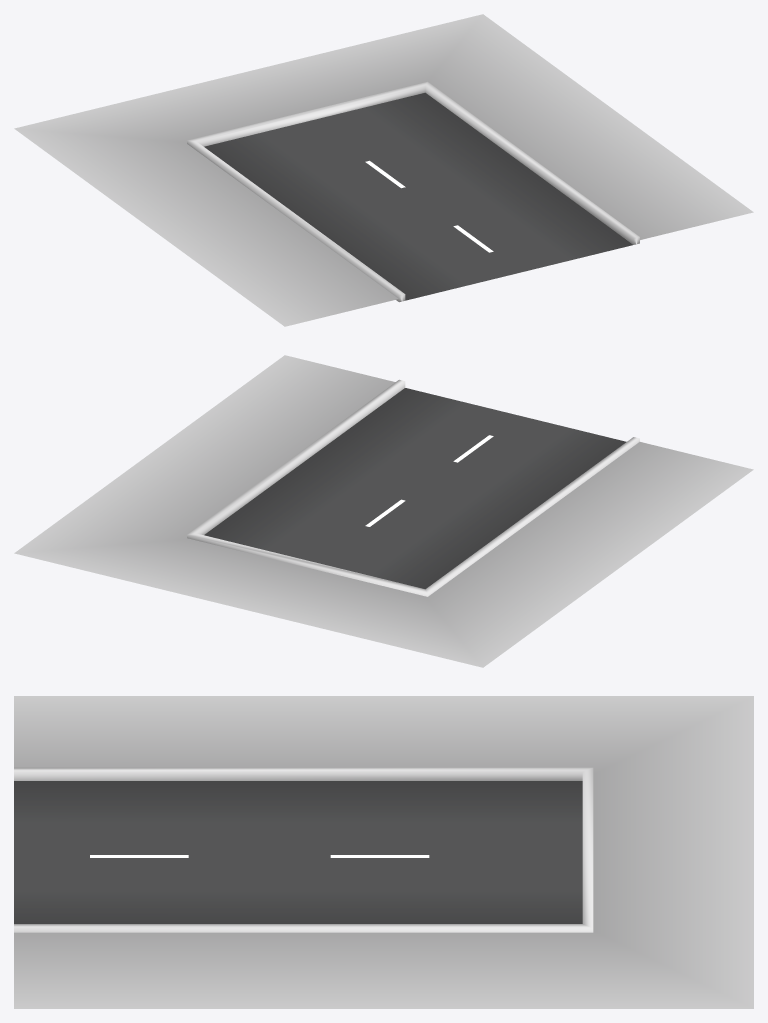
Rendered from city2-road-025.glb.
3 views of the same model, one above another, from view 1: azimuth 30°, elevation 25°; view 2: azimuth 150°, elevation 25°; view 3: azimuth 270°, elevation 25° (orthographic). The views are drawn at different scales.
Visible parts, largest first — view 1: road_025; view 2: road_025; view 3: road_025.
Boxes of the visible parts, left/top/right/bottom form: road_025: left=14, top=14, right=753, bottom=326; road_025: left=14, top=355, right=753, bottom=667; road_025: left=14, top=696, right=753, bottom=1008.
Bounding box in the file's own units: 15 × 0.2 × 15.
1 material, 1 textured.
